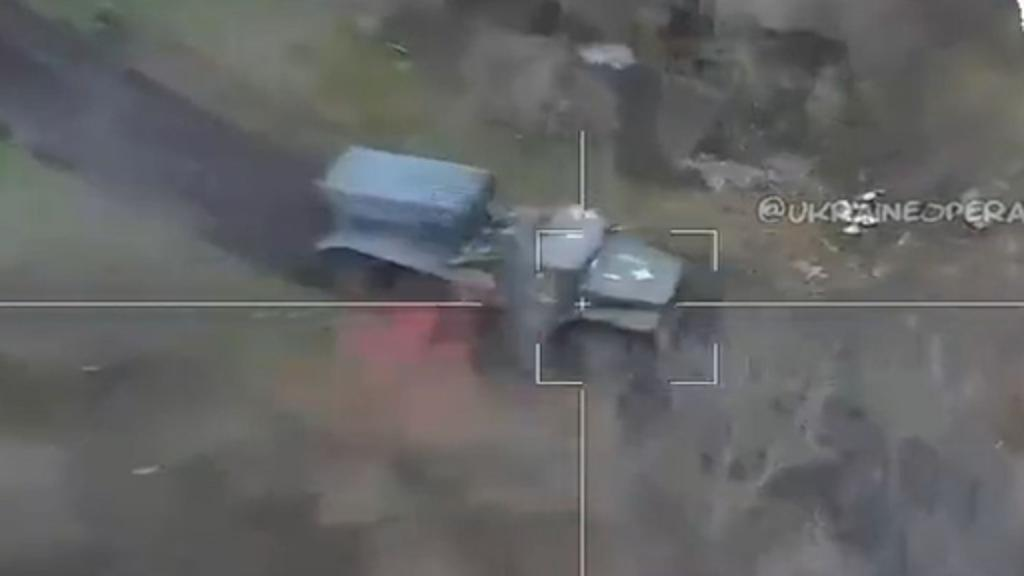MLRS: (312, 134, 684, 382)
